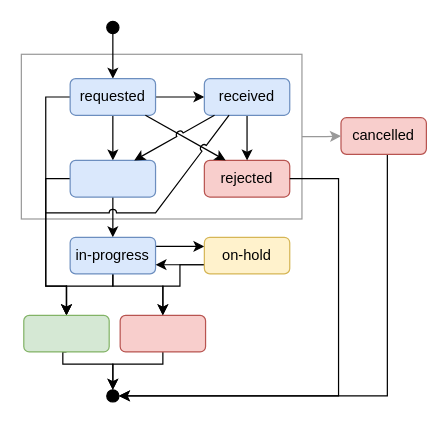
This 448x427 diagram has some shape labels left out. Here are the shapes that lost their labels. From the top down, the box of each, then its label:
(69, 159, 156, 197): accepted
(23, 314, 109, 352): completed
(119, 314, 206, 352): failed
